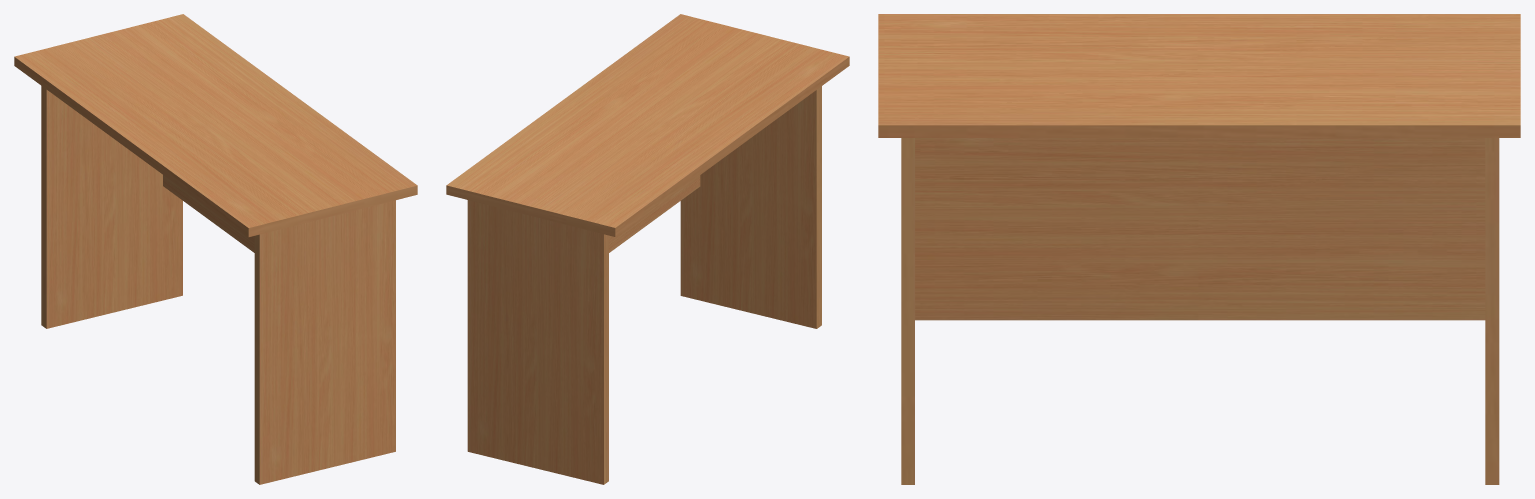
The model's file is parta.fbx.
3 renders of one model, left to right at view 1: azimuth 30°, elevation 25°; view 2: azimuth 150°, elevation 25°; view 3: azimuth 270°, elevation 25°, orthographic. The views are drawn at different scales.
Visible parts, largest first — view 1: Cube.003; view 2: Cube.003; view 3: Cube.003.
Part boxes in pixels (x1,y1,x2,y2): Cube.003: [14, 14, 417, 484]; Cube.003: [446, 14, 849, 484]; Cube.003: [878, 14, 1520, 484].
Size of the model in its own units: 50 by 76 by 120.
1 material, 1 textured.
